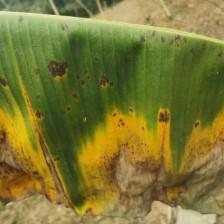pestalotiopsis: (0, 11, 224, 217)
